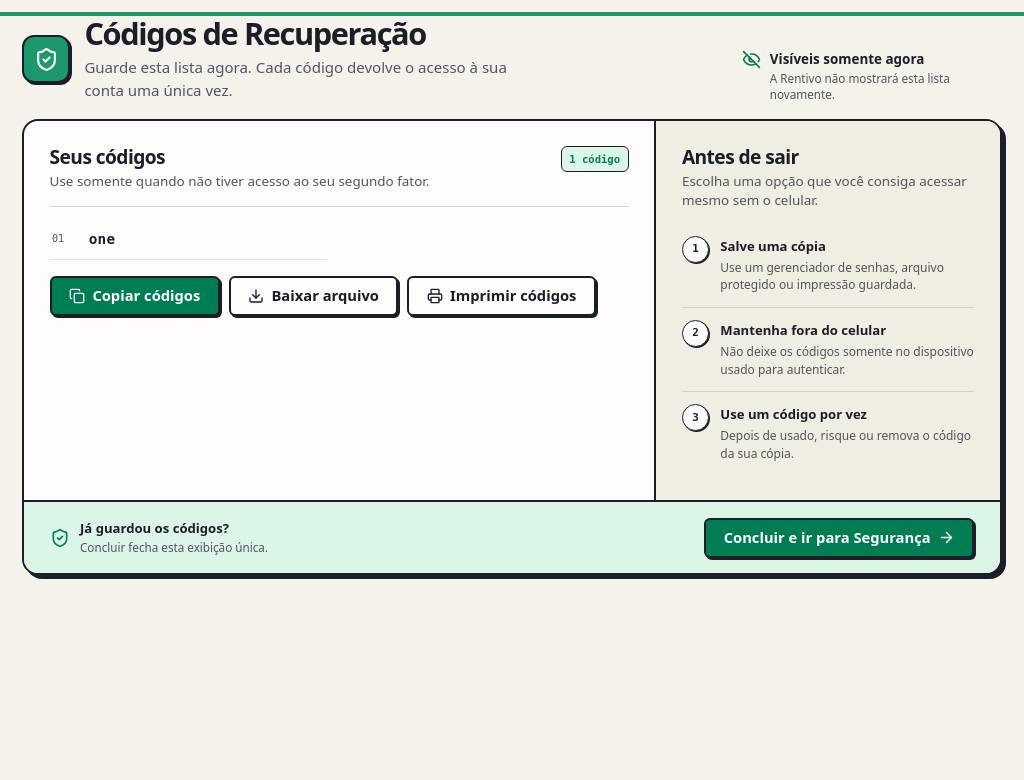
Test case: reports clipboard failures
The width and height of the screenshot is (1024, 780).
What coordinates should you click on to do the following:
click the button "Copiar códigos"
I would click on:
 (135, 296)
Its box is [50,276,220,316].
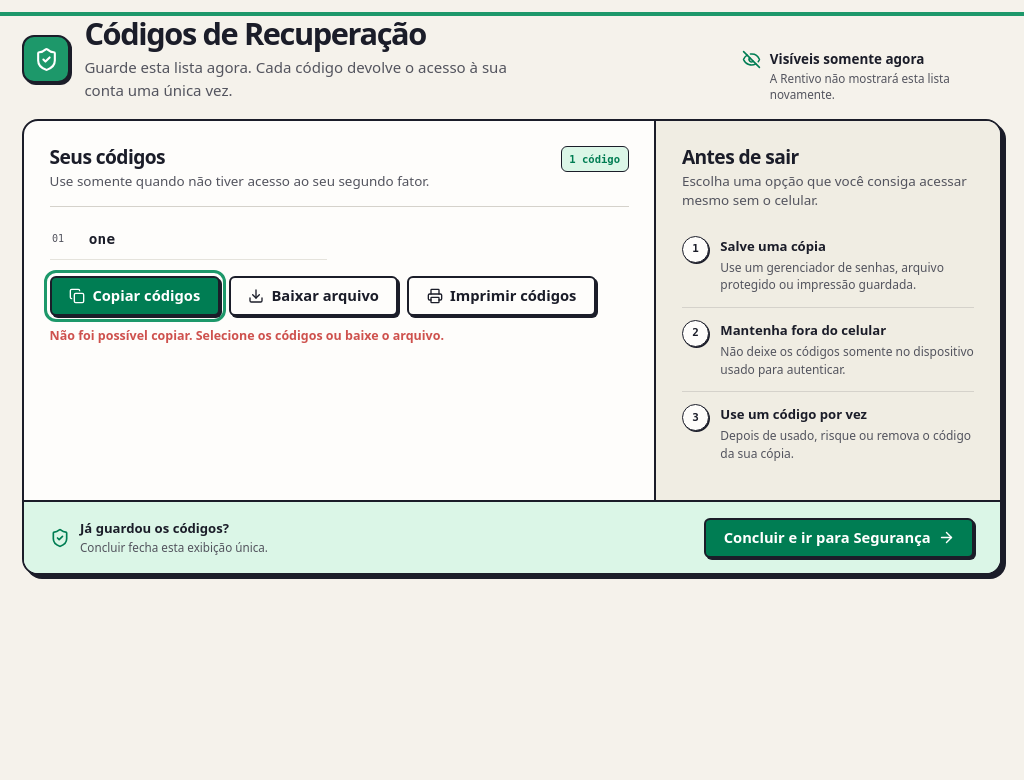
Expected: the message reads "Não foi possível copiar. Selecione os códigos ou baixe o arquivo.", [50,327,444,344]
